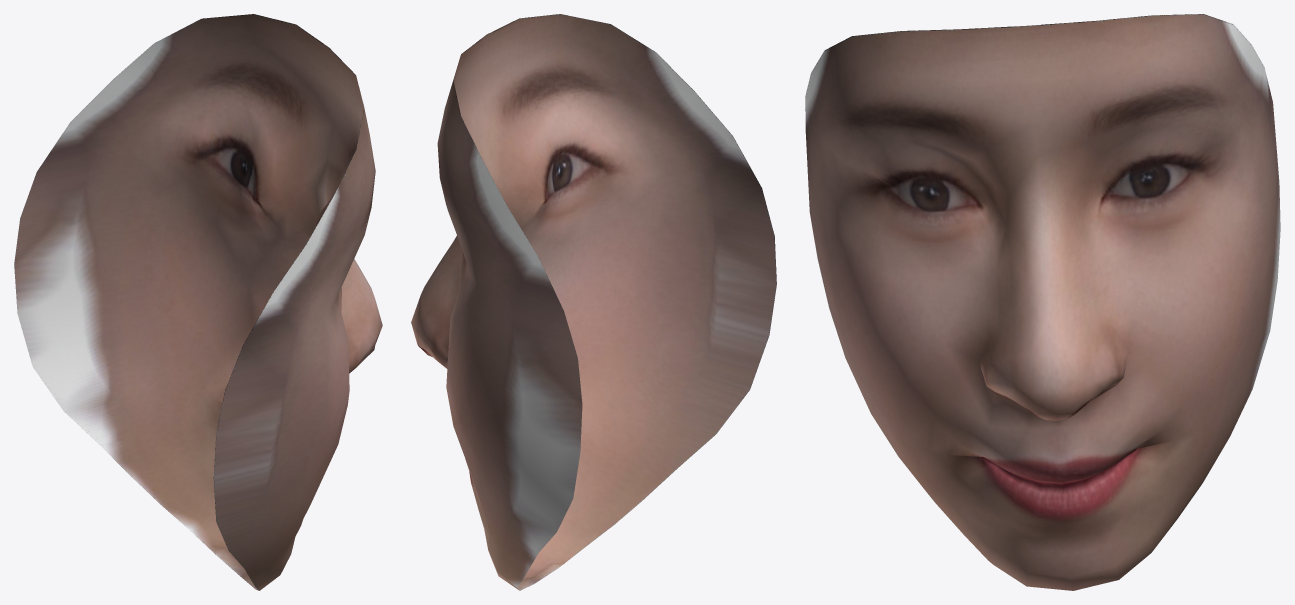
File: kakaostory_lifestyle.glb
3 renders of one model, left to right at view 1: azimuth 30°, elevation 25°; view 2: azimuth 150°, elevation 25°; view 3: azimuth 270°, elevation 25°, orthographic. The views are drawn at different scales.
Parts seen in each view (by area): view 1: kakaostory_lifestyle; view 2: kakaostory_lifestyle; view 3: kakaostory_lifestyle.
Part boxes in pixels (x1=…): kakaostory_lifestyle: x1=14, y1=14, x2=382, y2=590; kakaostory_lifestyle: x1=411, y1=14, x2=776, y2=590; kakaostory_lifestyle: x1=805, y1=14, x2=1280, y2=590.
Size of the model in its own units: 0.4512 by 0.8637 by 0.6136.
Materials: 1 (1 with a texture image).
